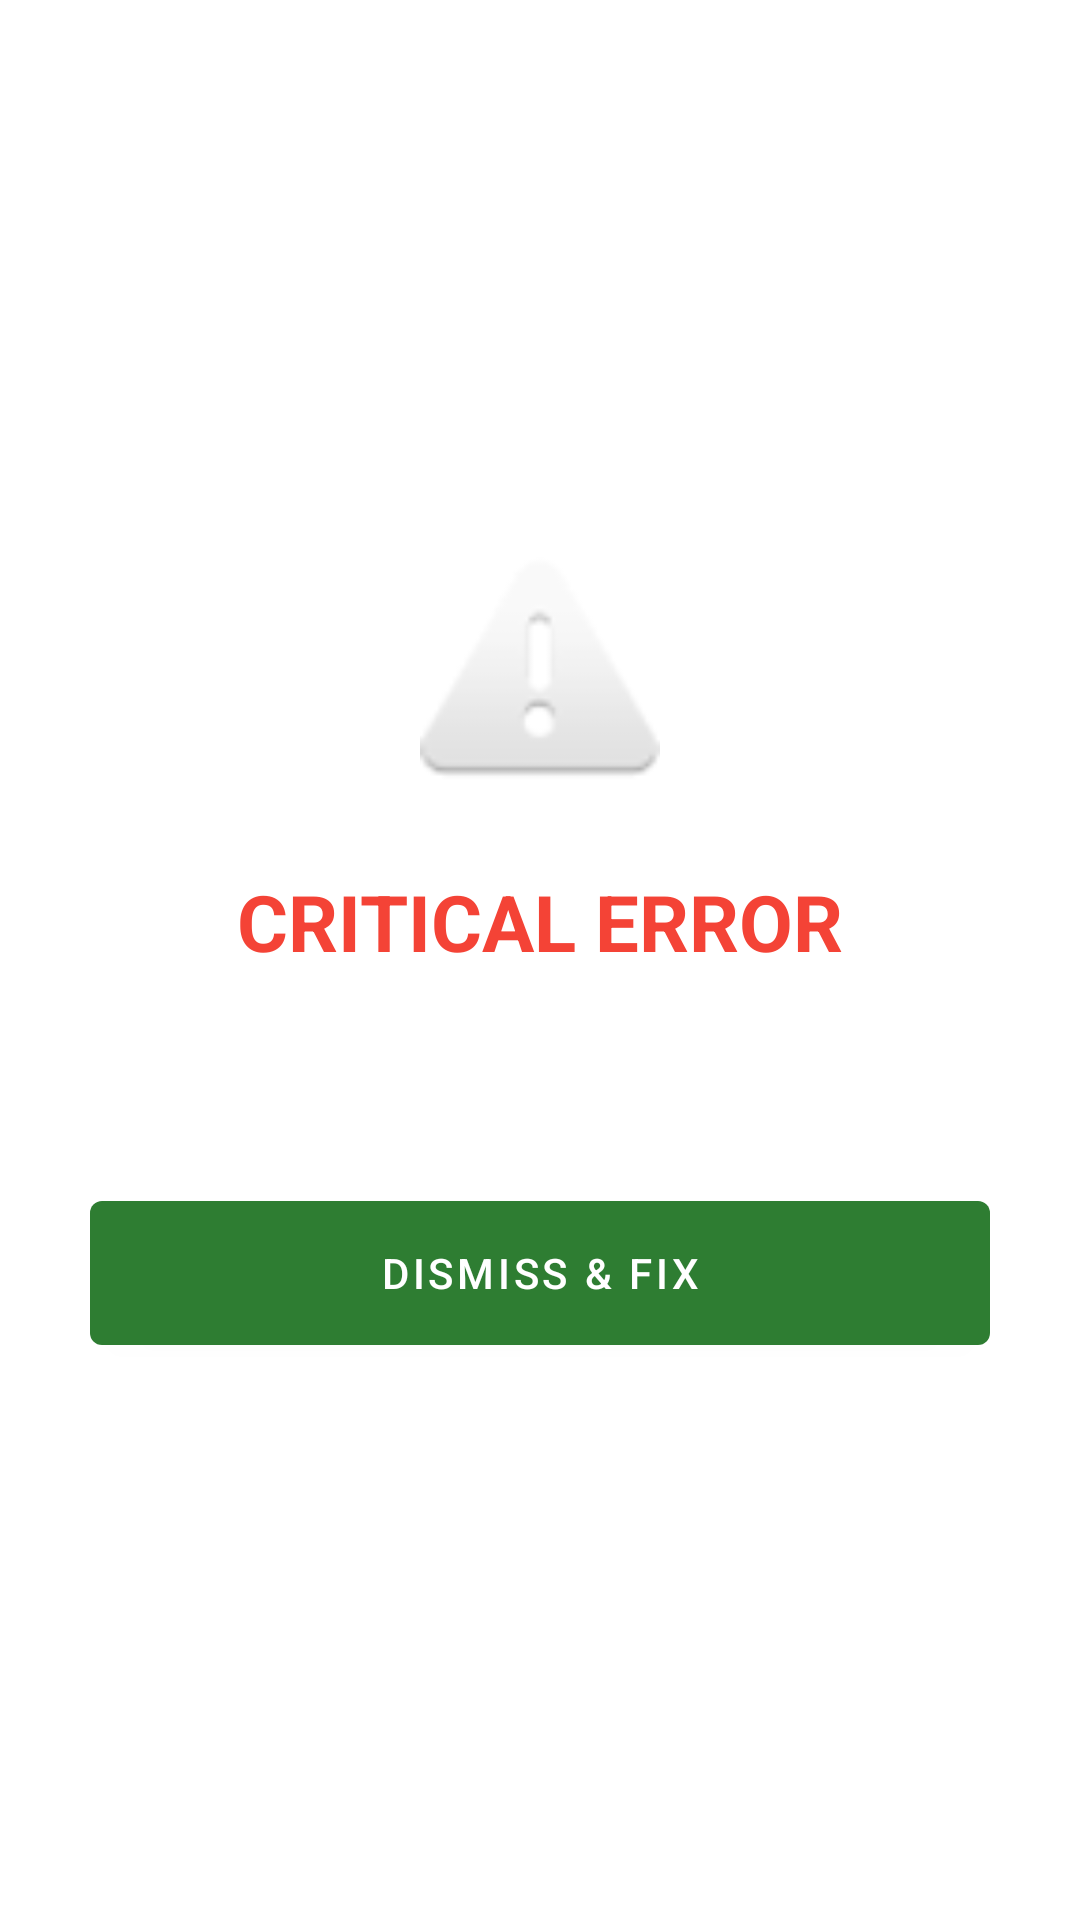

Where icons sit on this 1080x1920 app screen, as [left=x1, top=y1, right=x2, bottom=y2]:
alert: [left=420, top=613, right=660, bottom=775]
